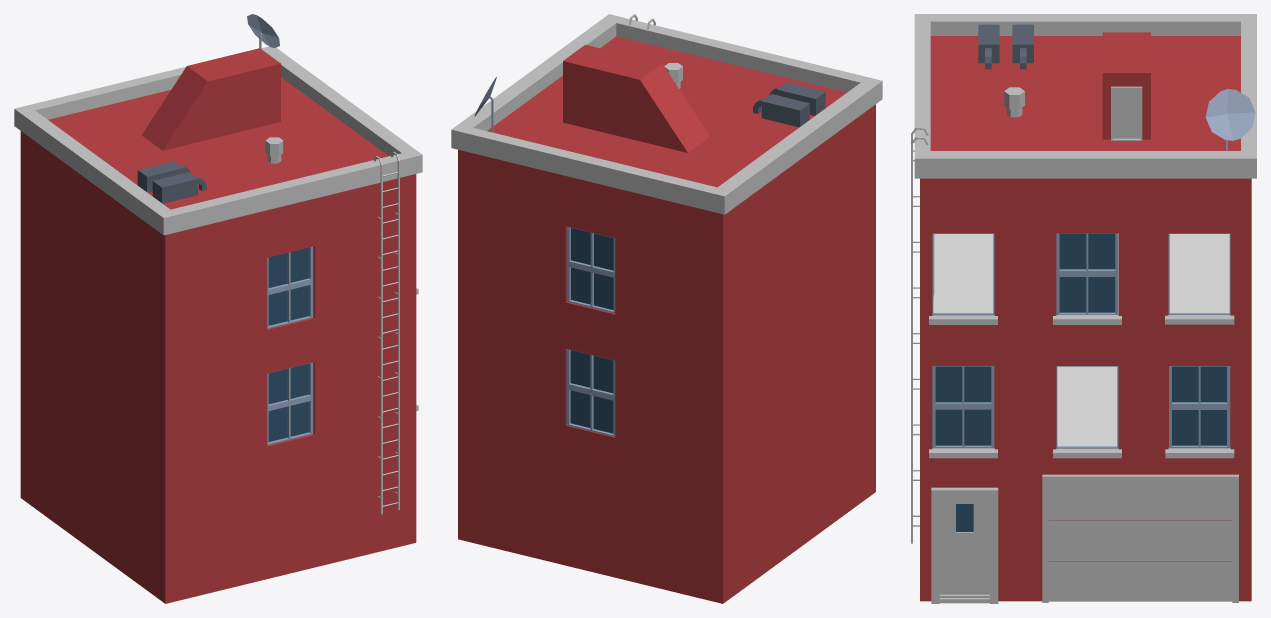
File: House (1).fbx
3 renders of one model, left to right at view 1: azimuth 30°, elevation 25°; view 2: azimuth 150°, elevation 25°; view 3: azimuth 270°, elevation 25°, orthographic. The views are drawn at different scales.
Parts seen in each view (by area): view 1: House, Other, Windows, Frames, Ventilation, TV_Antena; view 2: House, Other, Windows, Frames, Ventilation; view 3: House, Other, Rooms, Windows, Frames, TV_Antena, Ventilation.
Boxes of the visible parts, x1=… form: House: x1=20, y1=48, x2=416, y2=603; Other: x1=14, y1=46, x2=422, y2=514; Windows: x1=268, y1=247, x2=309, y2=441; Frames: x1=267, y1=246, x2=313, y2=444; Ventilation: x1=137, y1=161, x2=206, y2=203; TV_Antena: x1=247, y1=14, x2=279, y2=48; House: x1=458, y1=36, x2=875, y2=603; Other: x1=451, y1=14, x2=882, y2=214; Windows: x1=570, y1=228, x2=613, y2=433; Frames: x1=566, y1=226, x2=615, y2=436; Ventilation: x1=753, y1=82, x2=825, y2=127; House: x1=920, y1=32, x2=1251, y2=601; Other: x1=911, y1=14, x2=1256, y2=603; Rooms: x1=933, y1=233, x2=1229, y2=446; Windows: x1=935, y1=233, x2=1226, y2=531; Frames: x1=932, y1=233, x2=1230, y2=448; TV_Antena: x1=1205, y1=89, x2=1255, y2=150; Ventilation: x1=978, y1=24, x2=1033, y2=69.
Size of the model in its own units: 416 by 663 by 417.
